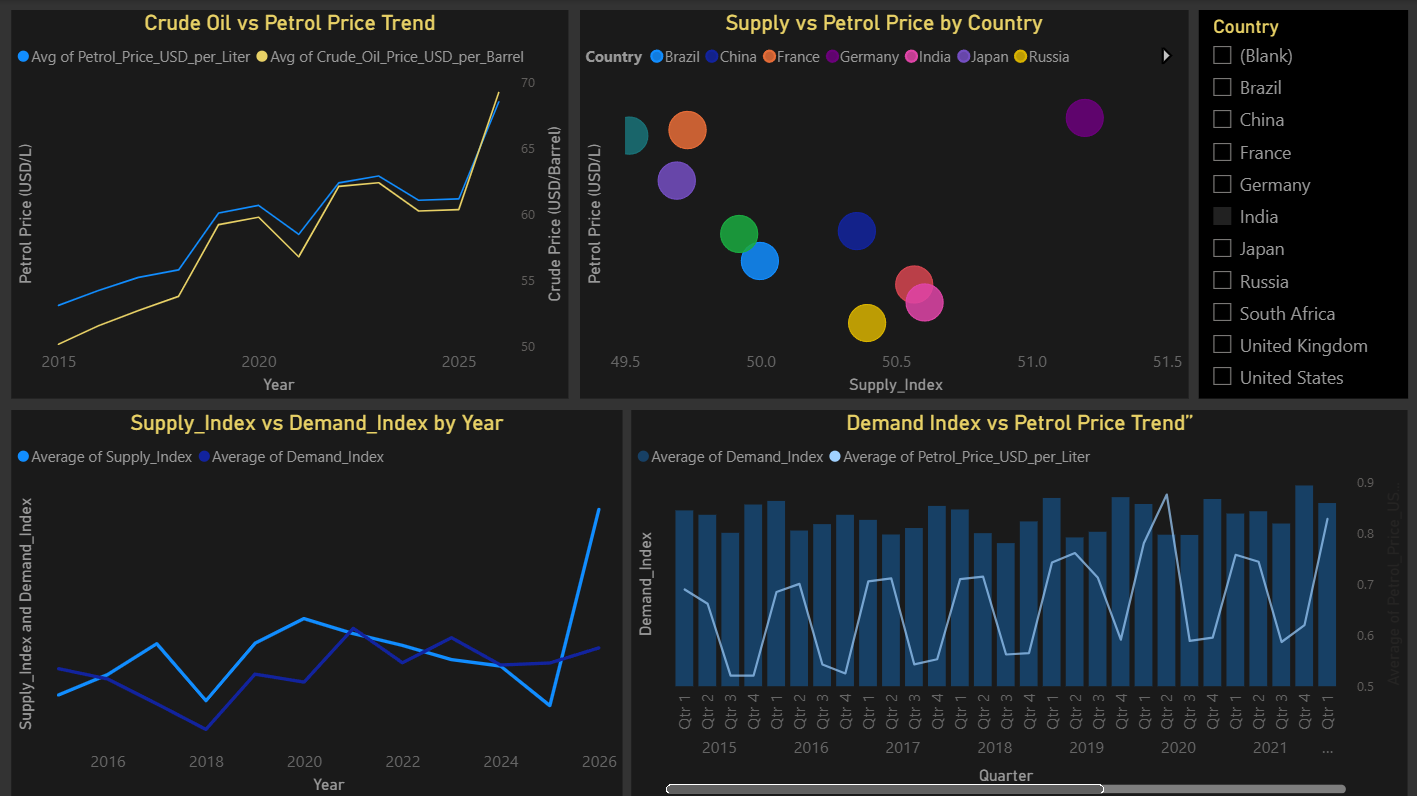

The dashboard page shown, as its layout file describes it:
{"tool":"powerbi","page":{"name":"Page 2","canvas":[1280,720],"ordinal":1},"visuals":[{"type":"lineChart","title":"Crude Oil vs Petrol Price Trend","fields":{"Y":["Avg(price_metrics_table_v2.Petrol_Price_USD_per_Liter)"],"Y2":["Avg(price_metrics_table_v2.Crude_Oil_Price_USD_per_Barrel)"],"Category":["Date.Date.Variation.Date Hierarchy.Year","Date.Date.Variation.Date Hierarchy.Quarter","Date.Date.Variation.Date Hierarchy.Month","Date.Date.Variation.Date Hierarchy.Day"]},"box":[10,8.7,502.6,350.8],"z":0},{"type":"scatterChart","title":"Supply vs Petrol Price by Country","fields":{"X":["Avg(price_metrics_table_v2.Supply_Index)"],"Y":["Avg(price_metrics_table_v2.Petrol_Price_USD_per_Liter)"],"Size":["Avg(price_metrics_table_v2.Demand_Index)"],"Series":["price_metrics_table_v2.Country"]},"box":[522.5,8.7,548.6,350.8],"z":1000},{"type":"lineChart","title":"Supply_Index vs Demand_Index by Year","fields":{"Y":["Avg(price_metrics_table_v2.Supply_Index)","Avg(price_metrics_table_v2.Demand_Index)"],"Category":["Date.Date.Variation.Date Hierarchy.Year","Date.Date.Variation.Date Hierarchy.Quarter","Date.Date.Variation.Date Hierarchy.Month","Date.Date.Variation.Date Hierarchy.Day"]},"box":[10,369.5,551.1,350.8],"z":2000},{"type":"lineClusteredColumnComboChart","title":"Demand Index vs Petrol Price Trend”","fields":{"Y":["Avg(price_metrics_table_v2.Demand_Index)"],"Y2":["Avg(price_metrics_table_v2.Petrol_Price_USD_per_Liter)"],"Category":["Date.Date.Variation.Date Hierarchy.Year","Date.Date.Variation.Date Hierarchy.Quarter","Date.Date.Variation.Date Hierarchy.Month","Date.Date.Variation.Date Hierarchy.Day"]},"box":[569.7,369.5,700.3,350.8],"z":3000},{"type":"slicer","fields":{"Values":["country_table_v2.Country"]},"box":[1081,8.7,189.1,350.8],"z":4000}]}

Visuals, with their boxes in screenshot pixels (x1, y1, x2, y2), scaled from the page's 1280x720 canvas onto the 1417x796 screenshot:
"Crude Oil vs Petrol Price Trend" lineChart: detection(11, 10, 567, 397)
"Supply vs Petrol Price by Country" scatterChart: detection(578, 10, 1186, 397)
"Supply_Index vs Demand_Index by Year" lineChart: detection(11, 409, 621, 795)
"Demand Index vs Petrol Price Trend”" lineClusteredColumnComboChart: detection(631, 409, 1406, 795)
slicer - country_table_v2.Country: detection(1197, 10, 1406, 397)
